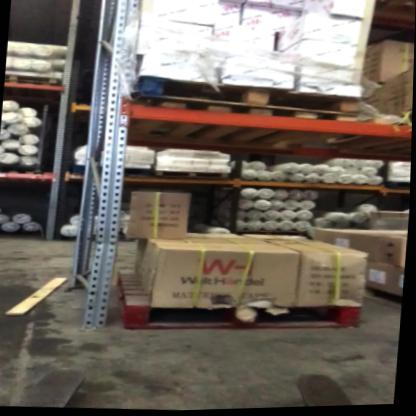vertical_damage: (94, 224, 128, 263)
